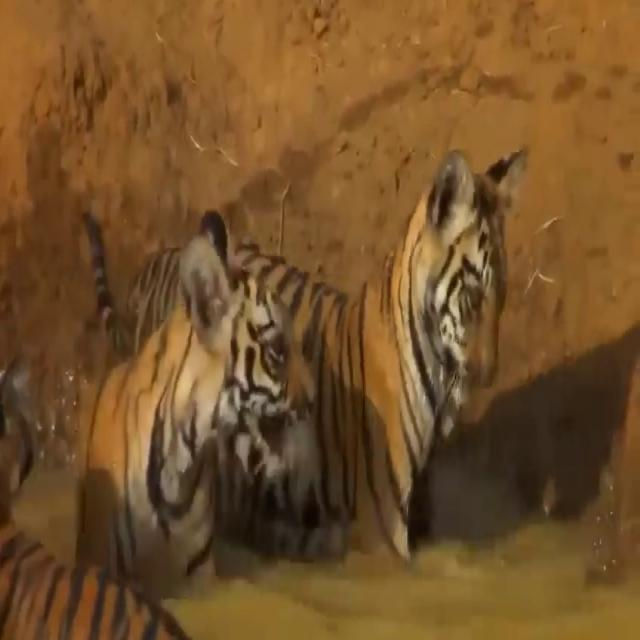tiger: (232, 140, 526, 559), (78, 230, 320, 599)
